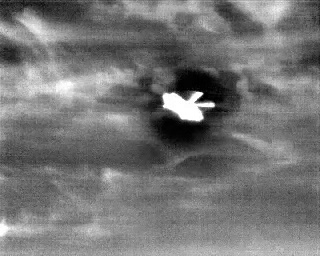HELICOPTER: (160, 85, 219, 128)
